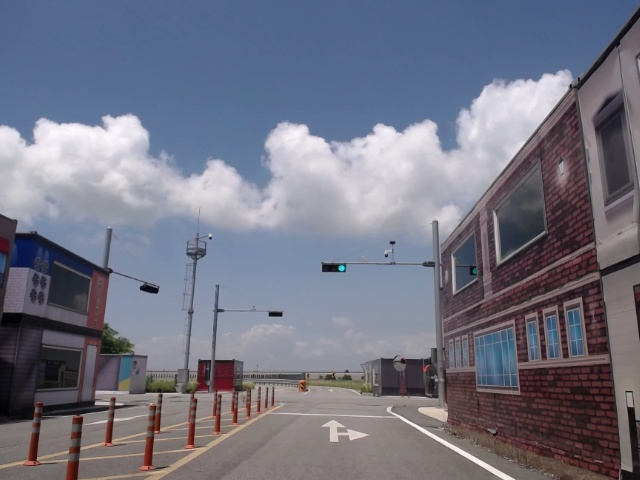green_3: (323, 264, 345, 272)
